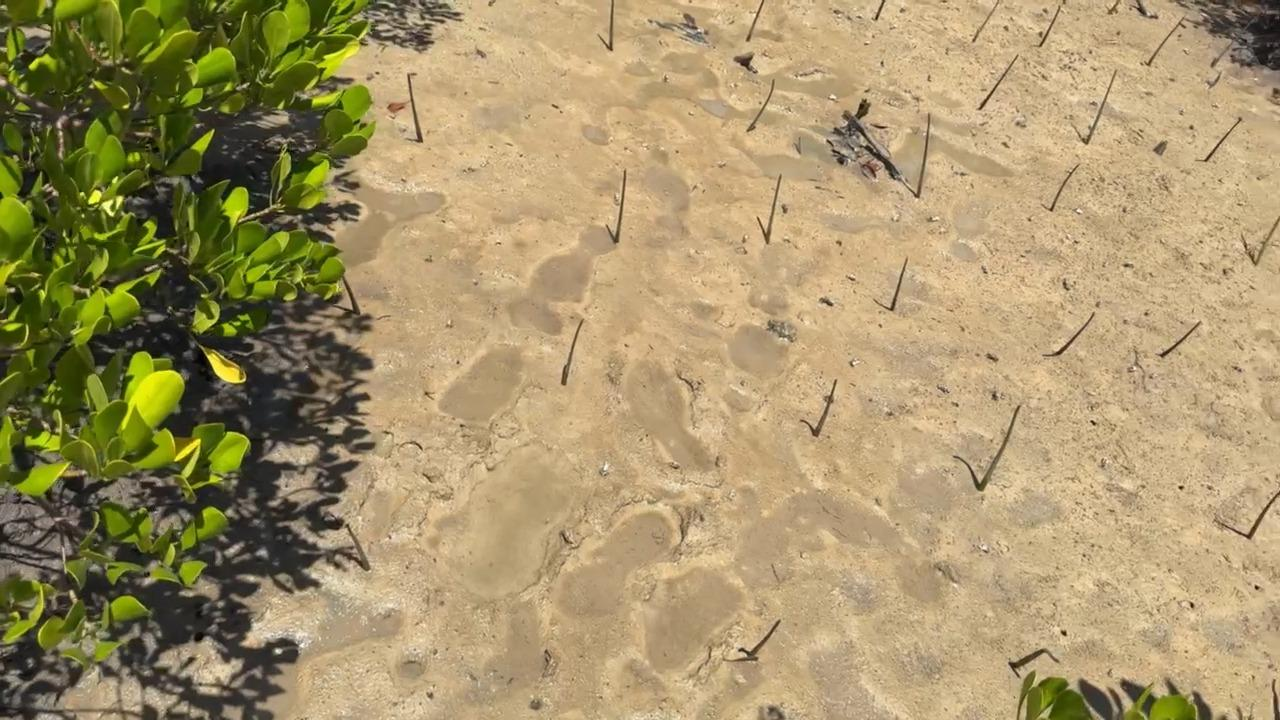Tree: (979, 405, 1021, 490), (1213, 17, 1257, 68), (1085, 71, 1116, 143), (979, 56, 1019, 110), (1055, 311, 1095, 355), (1149, 18, 1185, 65), (1160, 320, 1201, 358), (1205, 119, 1241, 162), (747, 78, 775, 132), (1248, 491, 1280, 538), (745, 619, 782, 659), (814, 381, 838, 437), (564, 319, 584, 385), (1255, 212, 1280, 264), (1050, 164, 1078, 210), (917, 113, 930, 200), (408, 75, 424, 144), (346, 527, 371, 570), (974, 0, 1000, 41), (766, 174, 781, 244), (1010, 649, 1060, 669), (891, 257, 909, 311), (614, 171, 627, 244), (1040, 7, 1061, 48), (746, 0, 766, 42), (342, 278, 361, 315), (608, 0, 614, 50), (875, 0, 885, 21), (1109, 0, 1119, 14)
